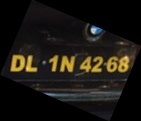character: (58, 54, 76, 73), (9, 54, 25, 72), (24, 54, 38, 73), (78, 54, 92, 72), (90, 55, 103, 73), (105, 55, 117, 73), (117, 55, 129, 73), (48, 53, 59, 72)
